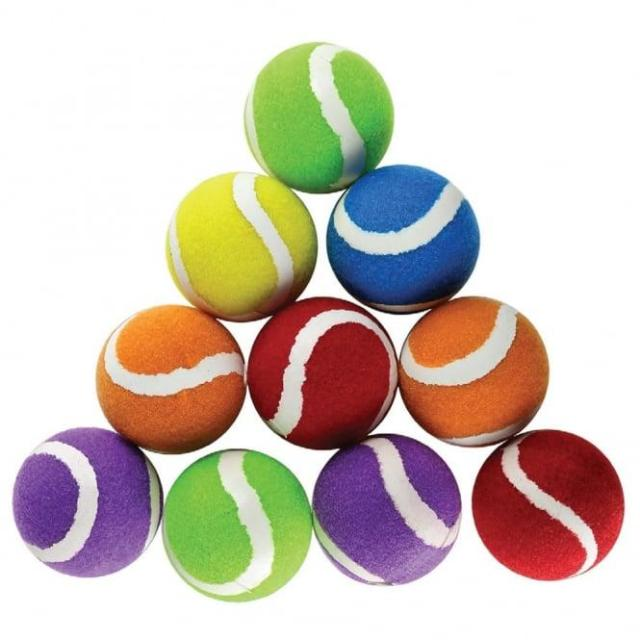ball: (244, 291, 400, 447)
